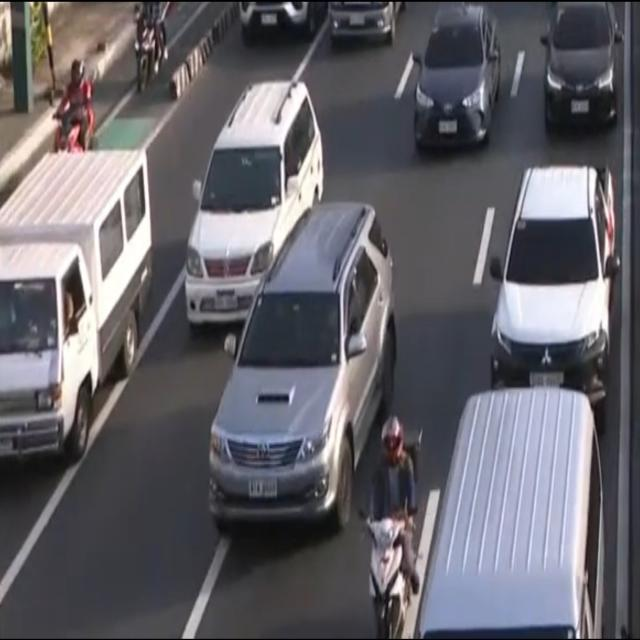Motorcycle: (353, 412, 434, 640), (54, 62, 101, 152), (133, 0, 172, 93)
Pick-up: (0, 139, 151, 491)
SUV: (195, 196, 407, 550), (166, 67, 324, 346), (484, 156, 624, 404)
Sedan: (408, 1, 503, 158), (536, 0, 628, 146)
Van: (416, 378, 640, 640)
